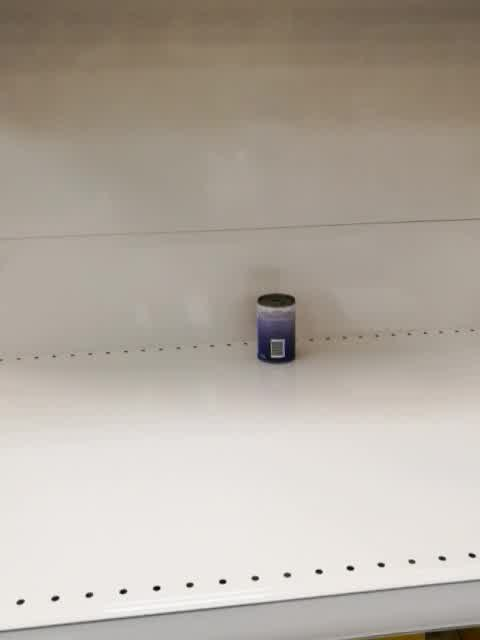sardine: (255, 291, 298, 366)
